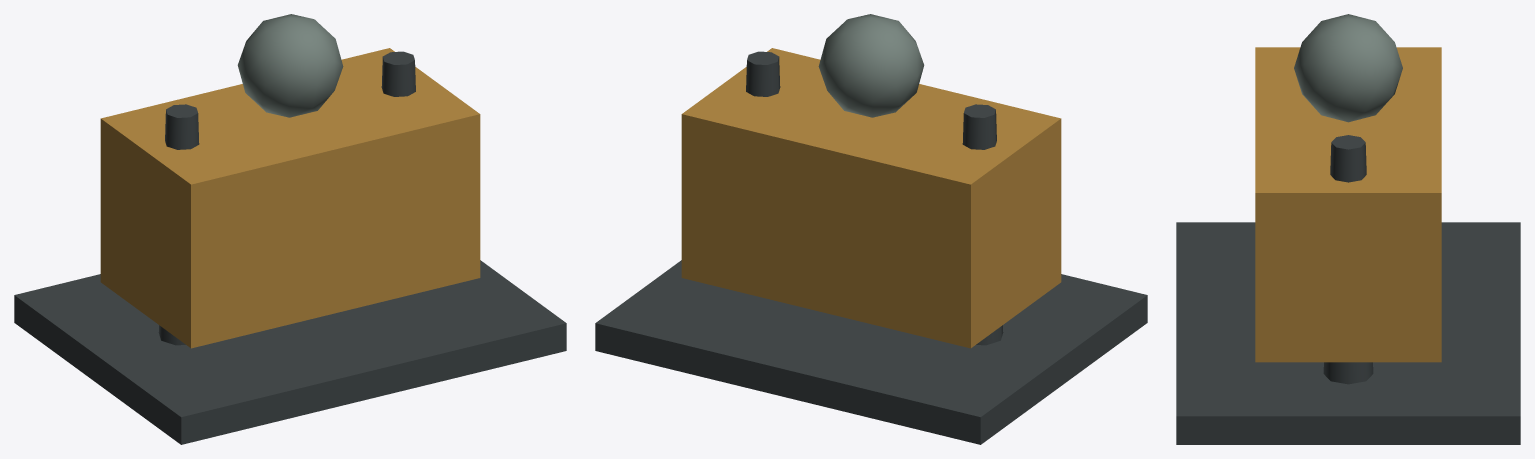
Rendered from starlight_bird_roost.glb.
3 renders of one model, left to right at view 1: azimuth 30°, elevation 25°; view 2: azimuth 150°, elevation 25°; view 3: azimuth 270°, elevation 25°, orthographic. The views are drawn at different scales.
Parts seen in each view (by area): view 1: habitat_bowl, habitat_base, habitat_marker, habitat_post_-1, habitat_post_1; view 2: habitat_bowl, habitat_base, habitat_marker, habitat_post_-1, habitat_post_1; view 3: habitat_bowl, habitat_base, habitat_marker, habitat_post_1.
Boxes of the visible parts, x1,y1,x2,y2 form: habitat_bowl: [100, 48, 480, 348]; habitat_base: [14, 260, 566, 444]; habitat_marker: [237, 14, 343, 117]; habitat_post_-1: [158, 104, 199, 345]; habitat_post_1: [381, 51, 415, 96]; habitat_bowl: [681, 48, 1061, 348]; habitat_base: [595, 260, 1147, 444]; habitat_marker: [818, 14, 924, 117]; habitat_post_-1: [962, 104, 1003, 345]; habitat_post_1: [746, 51, 780, 96]; habitat_bowl: [1255, 47, 1441, 362]; habitat_base: [1176, 222, 1520, 444]; habitat_marker: [1294, 14, 1402, 122]; habitat_post_1: [1323, 135, 1373, 384].
Size of what is drawn, in the model's own units: 3.2 by 2.53 by 2.4.
